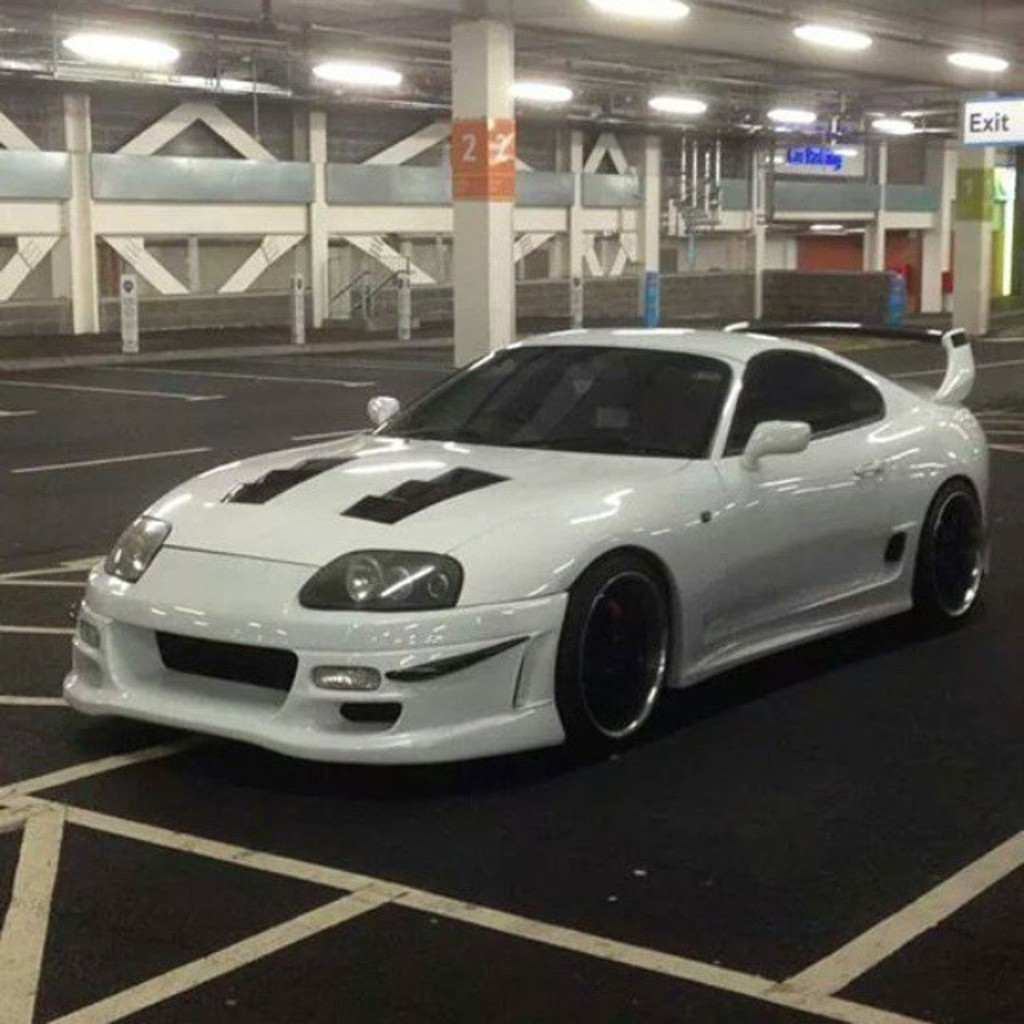Car: (57, 321, 998, 763)
